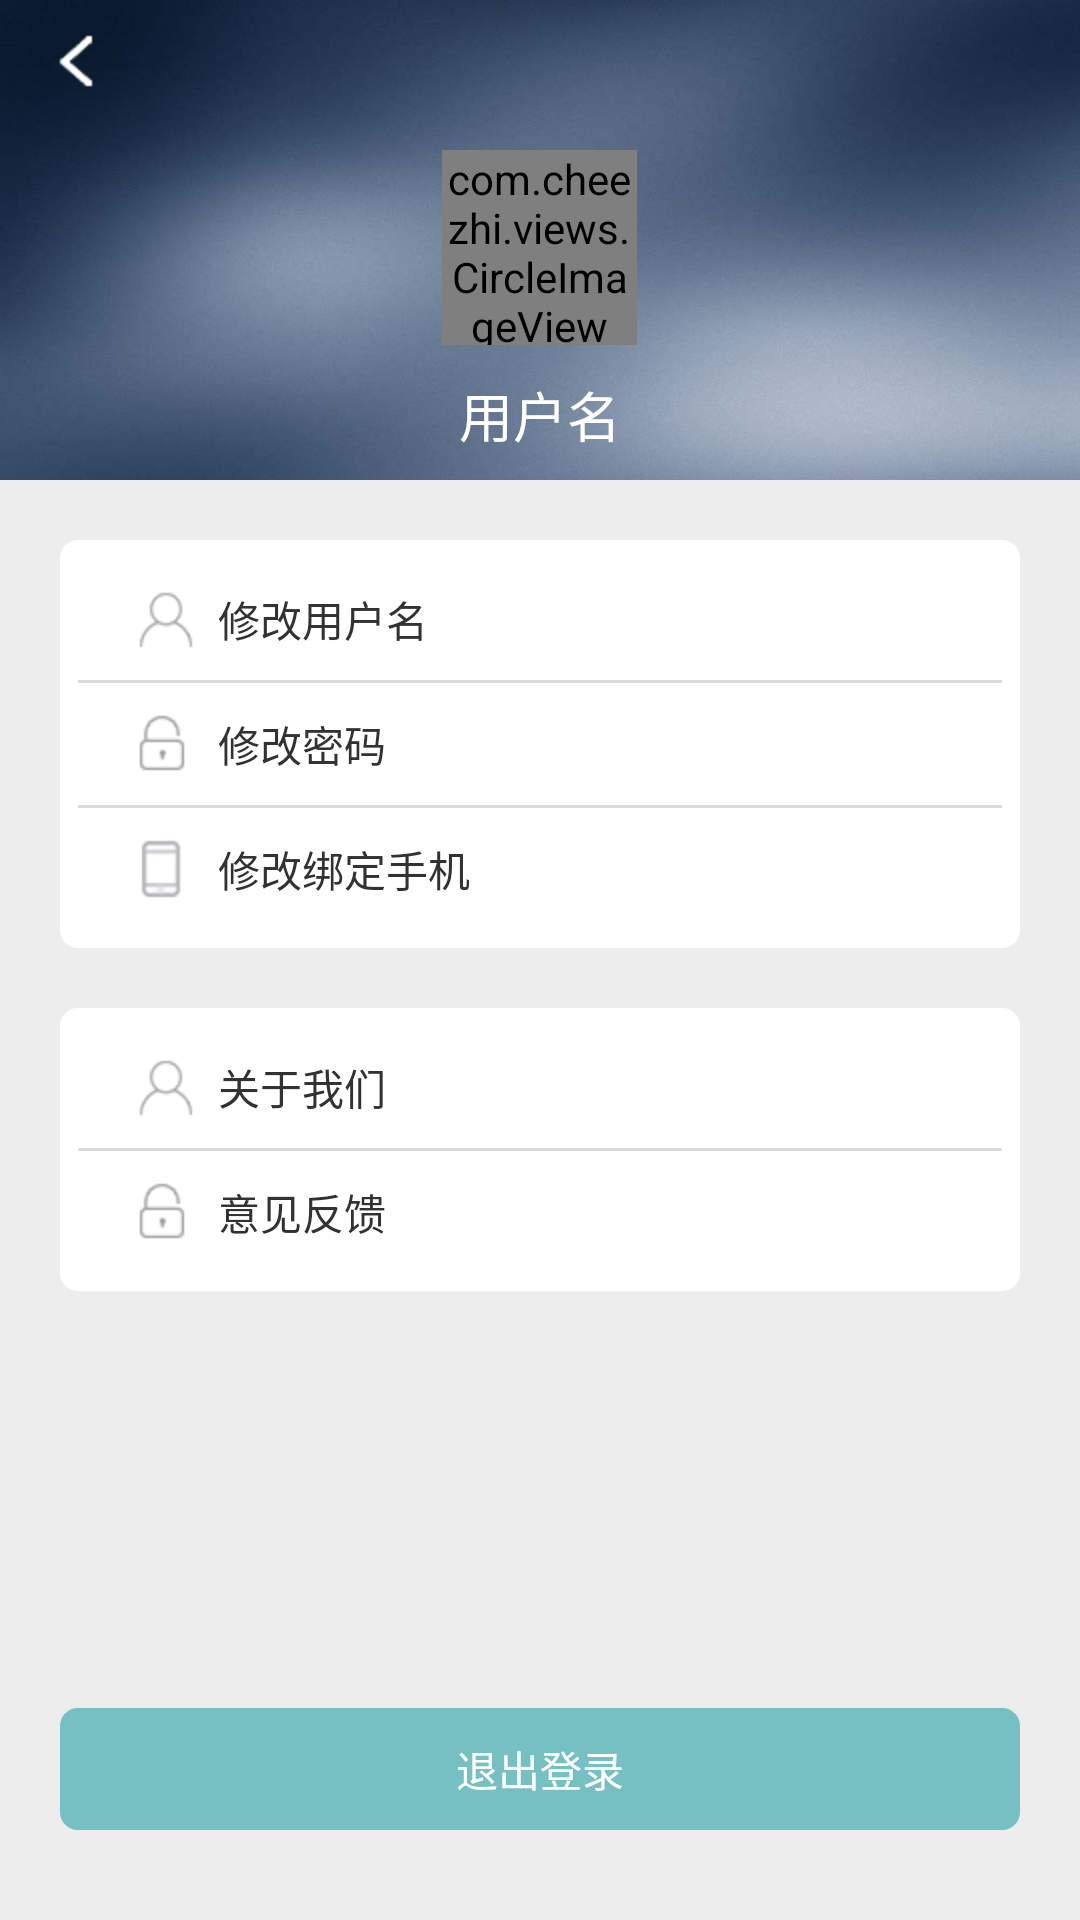

Where icons sit on this 1080 x 1920 app screen, as box(x1, y1, x2, y2):
back: box(59, 35, 93, 87)
